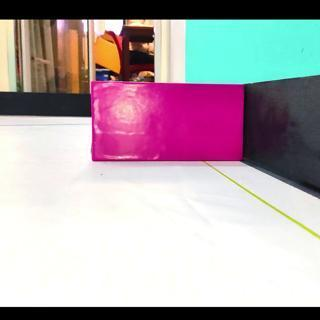xparking: (90, 81, 242, 162)
